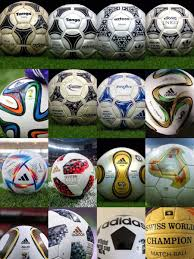football ball: (145, 66, 194, 137), (95, 144, 145, 207), (145, 143, 194, 207), (95, 1, 147, 61), (1, 78, 50, 139), (97, 71, 147, 130), (50, 69, 98, 127), (49, 3, 99, 58), (146, 1, 194, 57), (1, 1, 49, 56), (145, 207, 194, 259), (49, 152, 97, 202), (47, 208, 94, 259), (97, 215, 146, 259), (1, 150, 49, 194), (1, 224, 49, 259), (24, 67, 52, 81)
